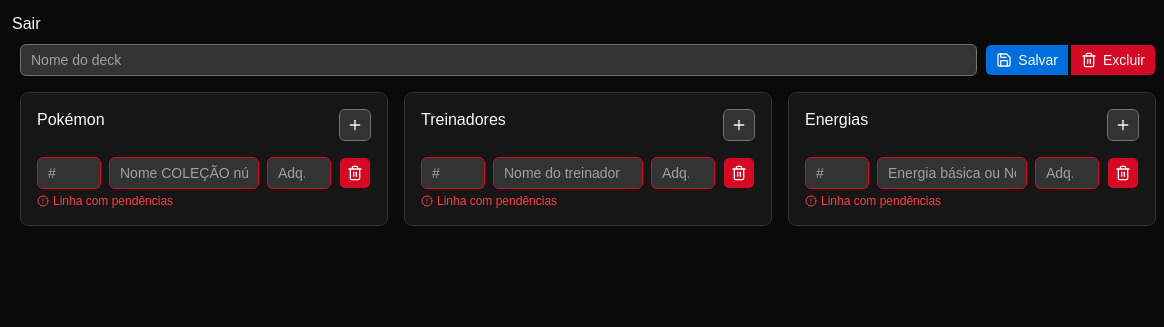
it: DeckEditor › requires a deck name on Save and writes nothing
Click the button named "Adicionar carta" at (355, 125), box [339,109,371,141]
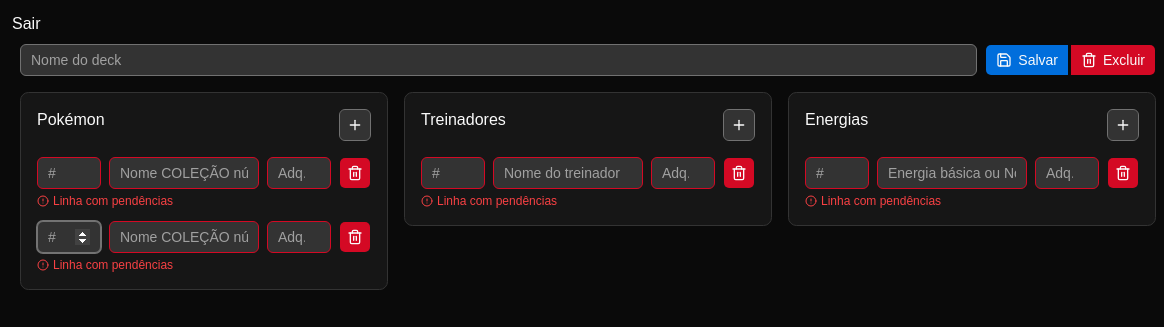
Type "2" into the number field named "Quantidade" at (69, 237), box [37,221,101,253]
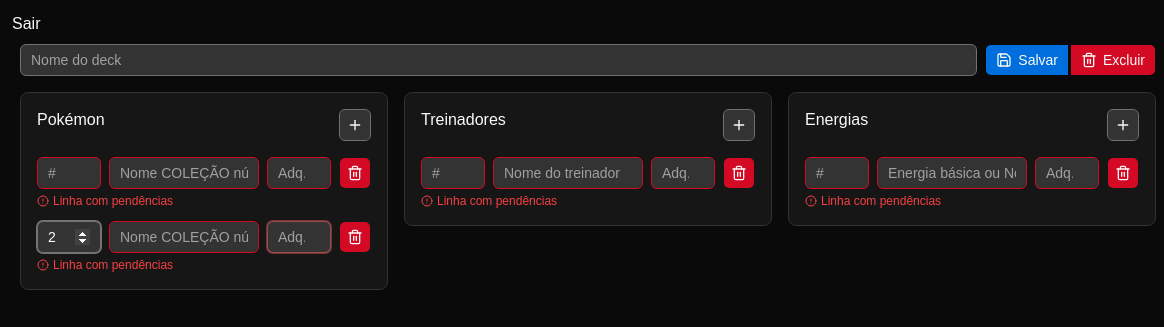
Type "Abra MEG 54" into the dropdown named "Carta" at (184, 237), box [109,221,259,253]
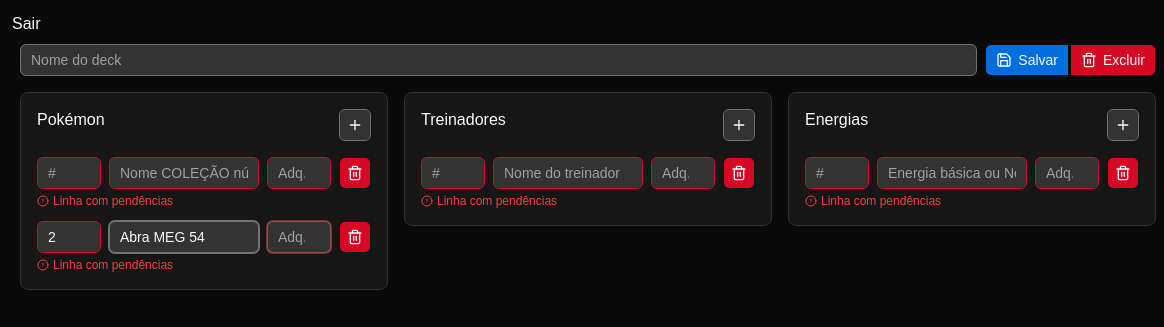
Type "2" into the number field named "Adquirido" at (299, 237), box [267,221,331,253]
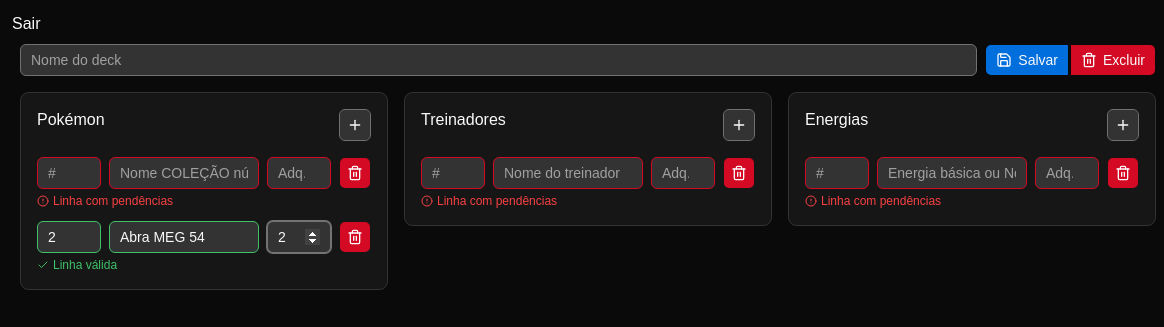
Click the button with aria-label "Salvar deck" at (1027, 60), box [985,44,1069,76]
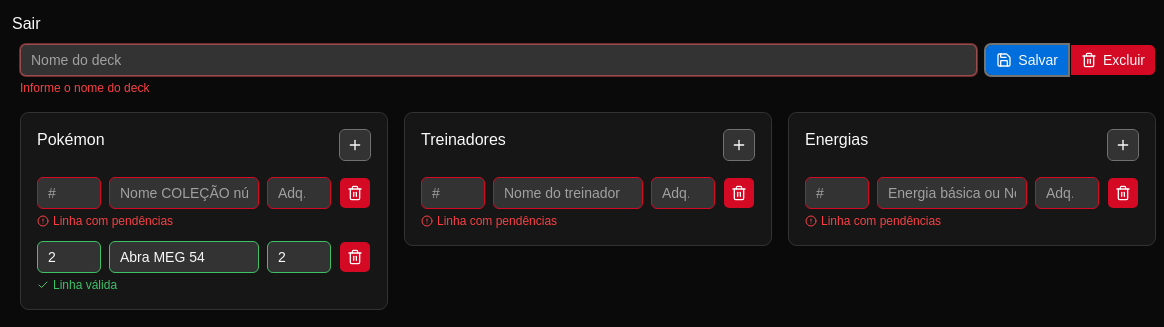
Expected: the text "Informe o nome do deck" is shown, [20,81,149,95]
